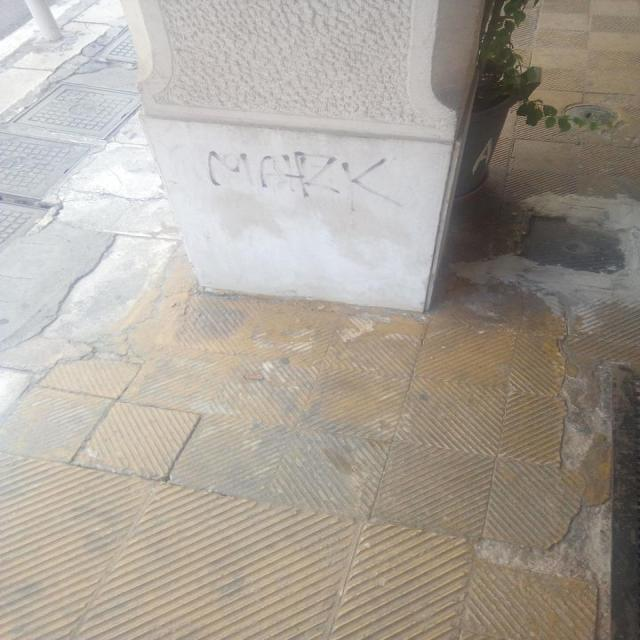nonspitting: (205, 150, 392, 202)
